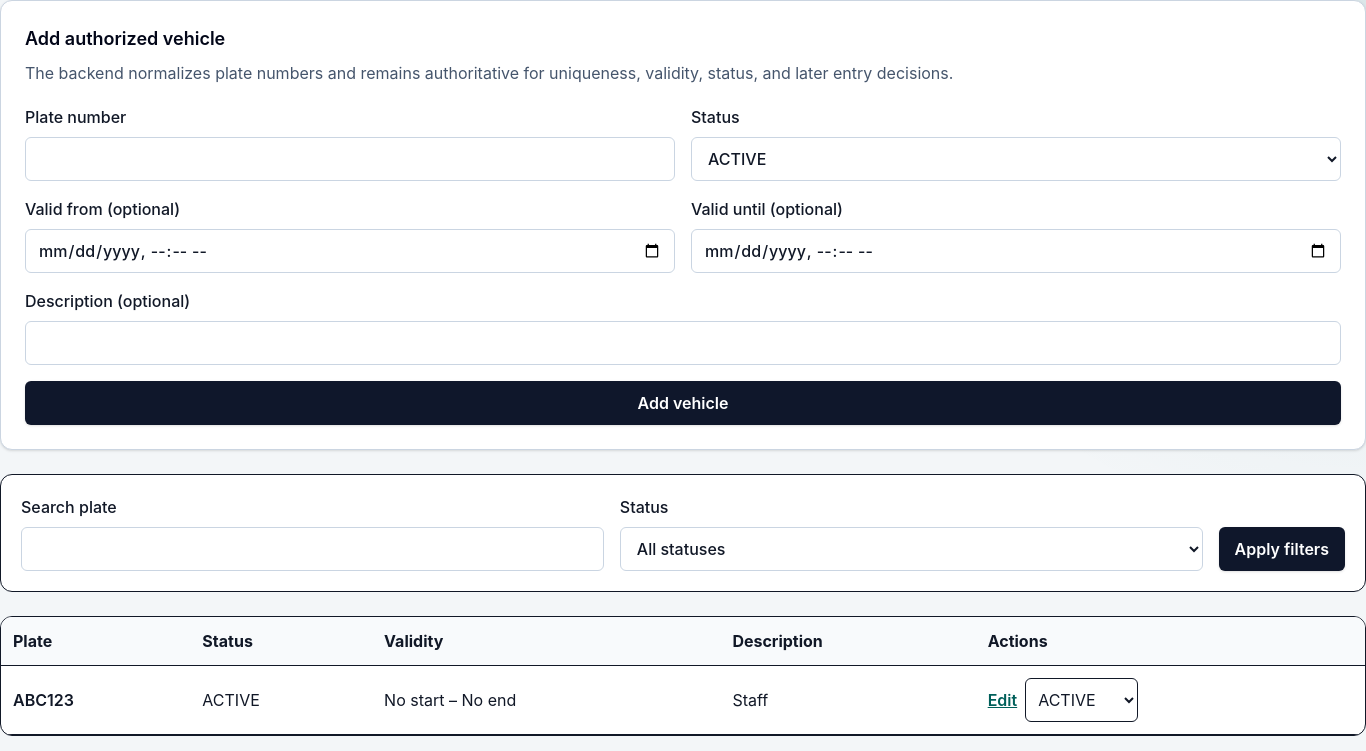
Scenario: Day 15 vehicle management › creates a vehicle and reloads
The image size is (1366, 751).
Check: the text "ABC123" is shown, box left=1, top=666, right=190, bottom=734
Type "ABC-123" into the field labelled "Plate number" at (350,159), box left=25, top=137, right=675, bottom=181
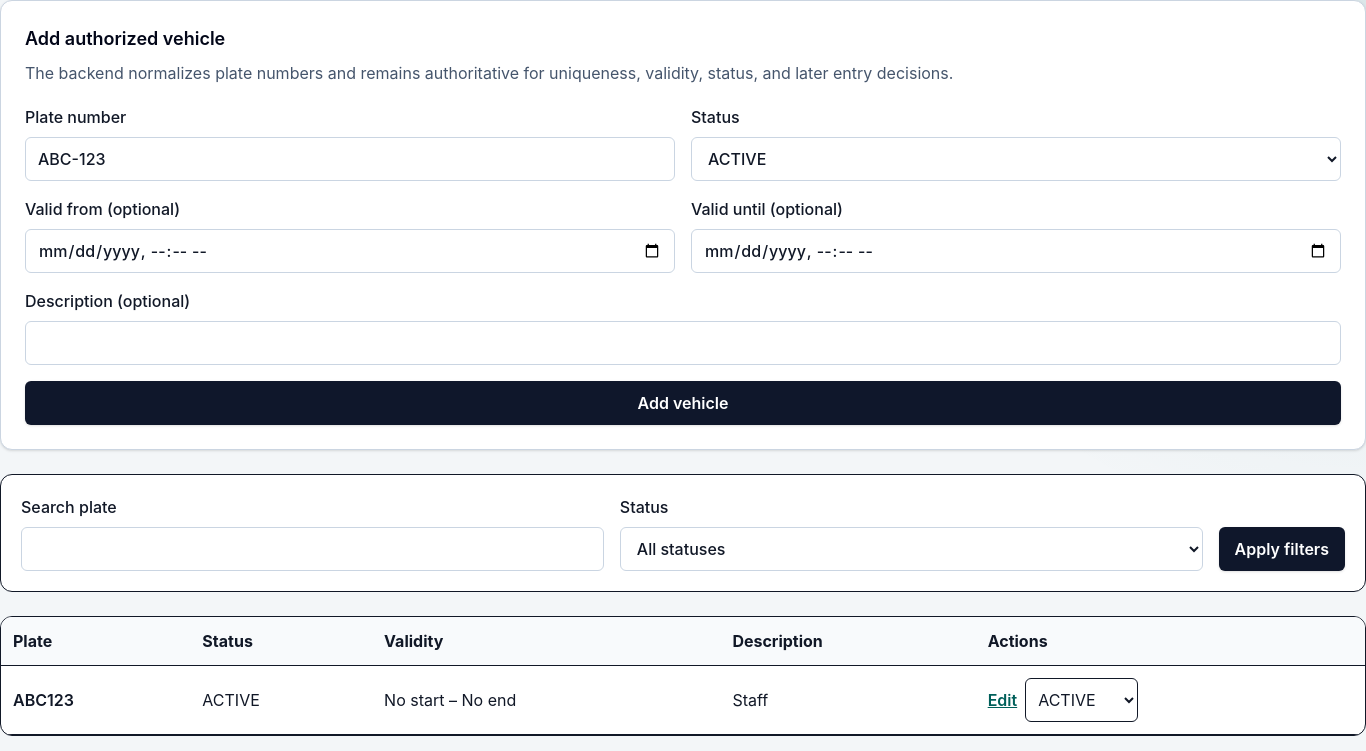
Click the button "Add vehicle" at (683,403), box left=25, top=381, right=1341, bottom=425
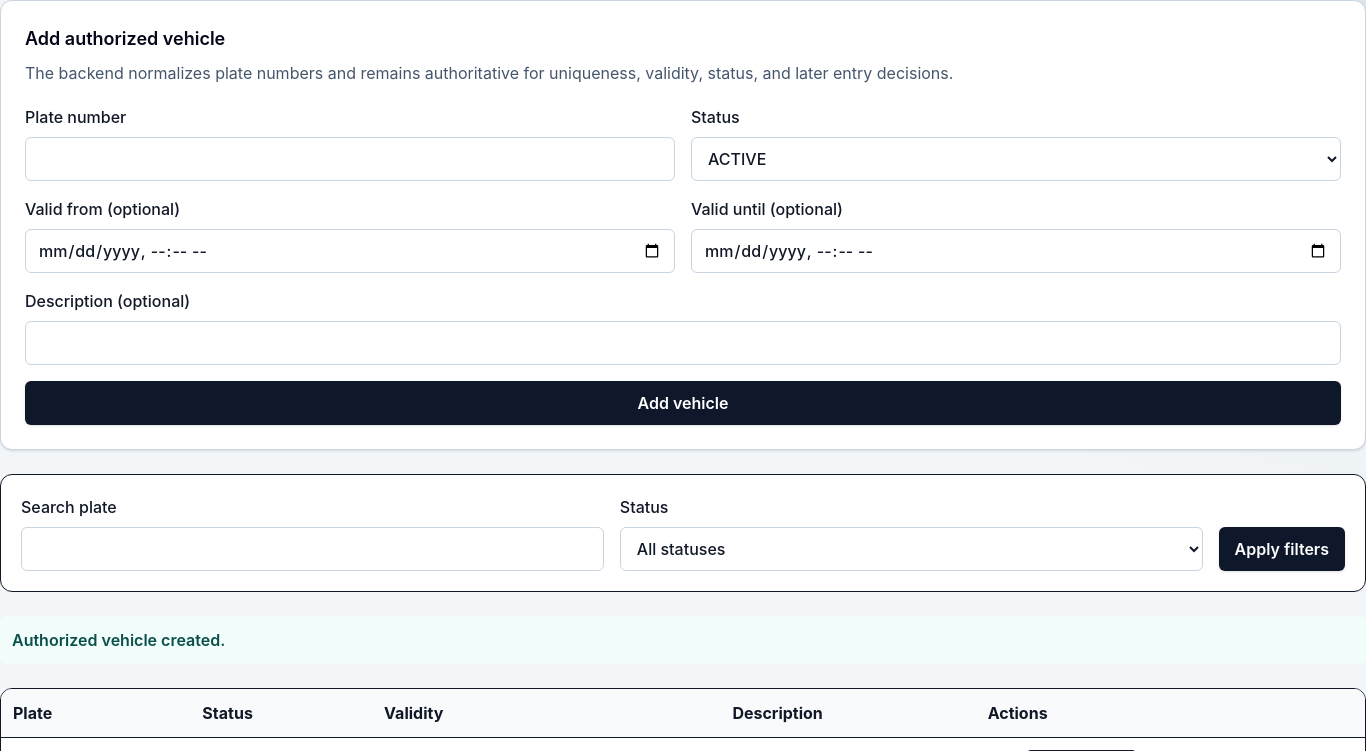
Check: the text "Authorized vehicle created." is shown, box left=0, top=616, right=1365, bottom=664
